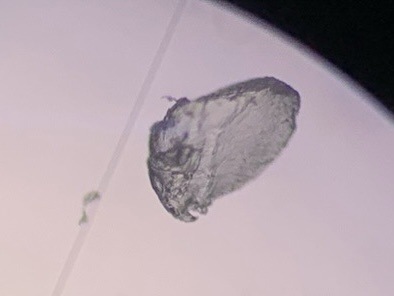microplastic: (142, 75, 305, 228)
